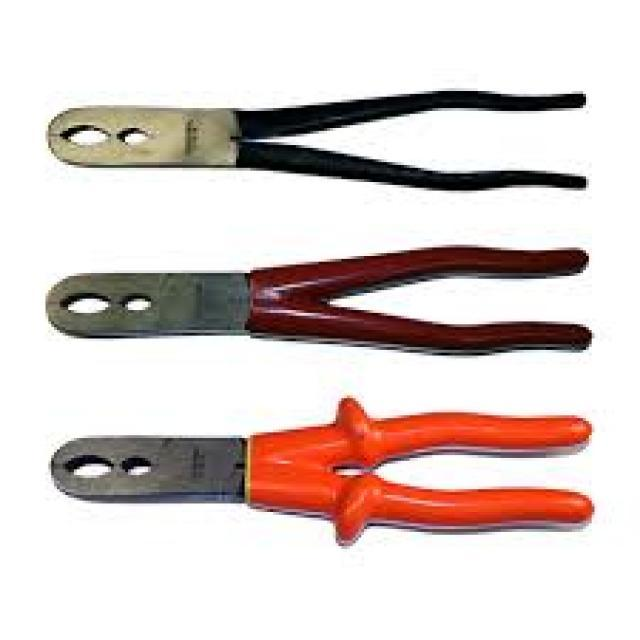pliers: (39, 385, 600, 545), (36, 234, 603, 360), (36, 78, 602, 200)
